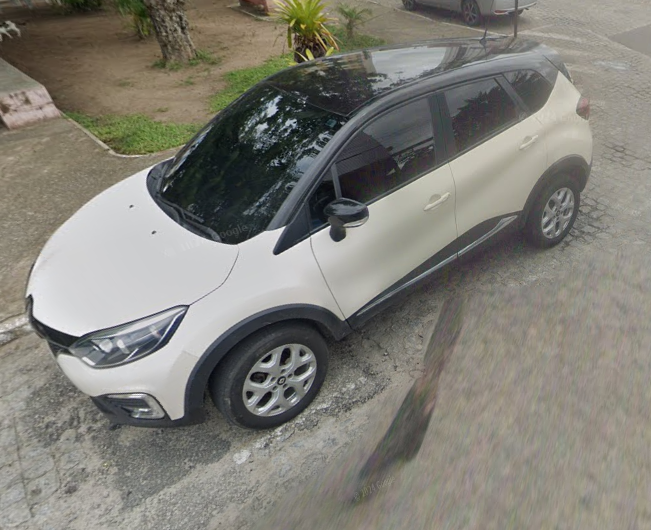car: (24, 1, 595, 433)
